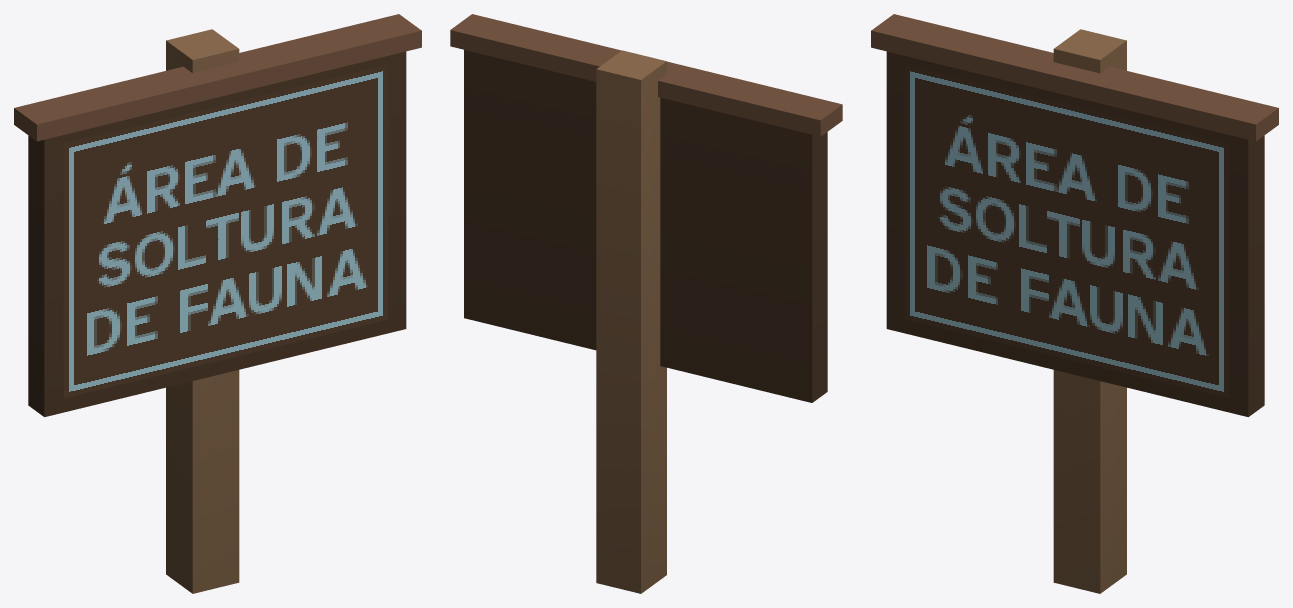
Rendered from custom-placa-area-de-soltura.glb.
3 views of the same model, side by side, from view 1: azimuth 30°, elevation 25°; view 2: azimuth 150°, elevation 25°; view 3: azimuth 330°, elevation 25° (orthographic). The views are drawn at different scales.
Parts seen in each view (by area): view 1: placa-area-de-soltura; view 2: placa-area-de-soltura; view 3: placa-area-de-soltura.
Boxes of the visible parts, x1=… form: placa-area-de-soltura: x1=14, y1=14, x2=421, y2=593; placa-area-de-soltura: x1=450, y1=14, x2=842, y2=593; placa-area-de-soltura: x1=871, y1=14, x2=1278, y2=593.
Bounding box in the file's own units: 1.66 × 2.2 × 0.3.
2 materials, 1 textured.
